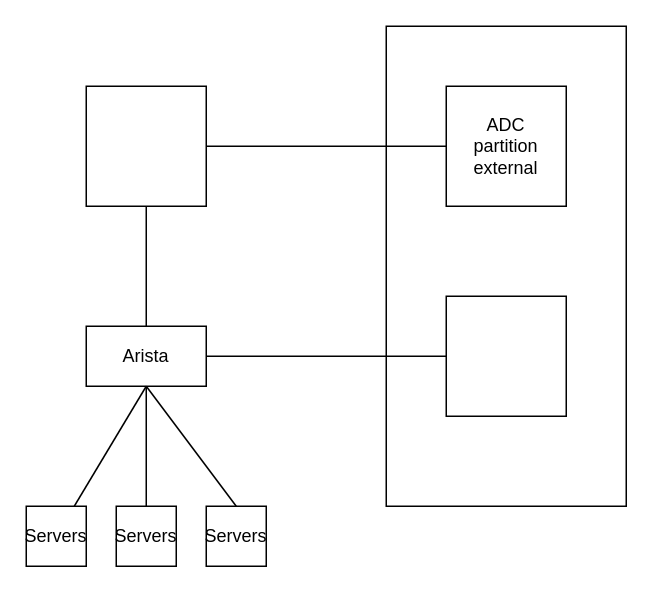
Image size: 653x593. Some labels were removed from this diagram. Each missing label, with the centre of its shape:
"ADC partition internal" belongs at point (505, 355).
"Firewall" belongs at point (145, 145).
